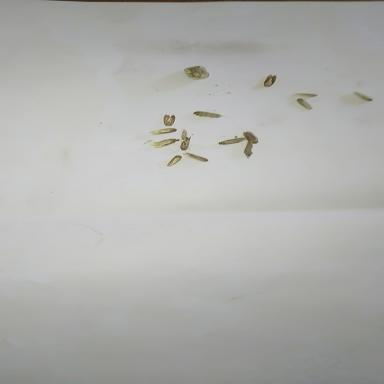pbw: (192, 111, 228, 118), (183, 152, 208, 162), (218, 137, 245, 145), (296, 98, 313, 110), (263, 74, 277, 88), (149, 128, 177, 135), (242, 132, 258, 144), (354, 92, 372, 101), (180, 136, 191, 150), (163, 114, 175, 126), (167, 156, 181, 166), (295, 93, 318, 97), (181, 130, 188, 140)
